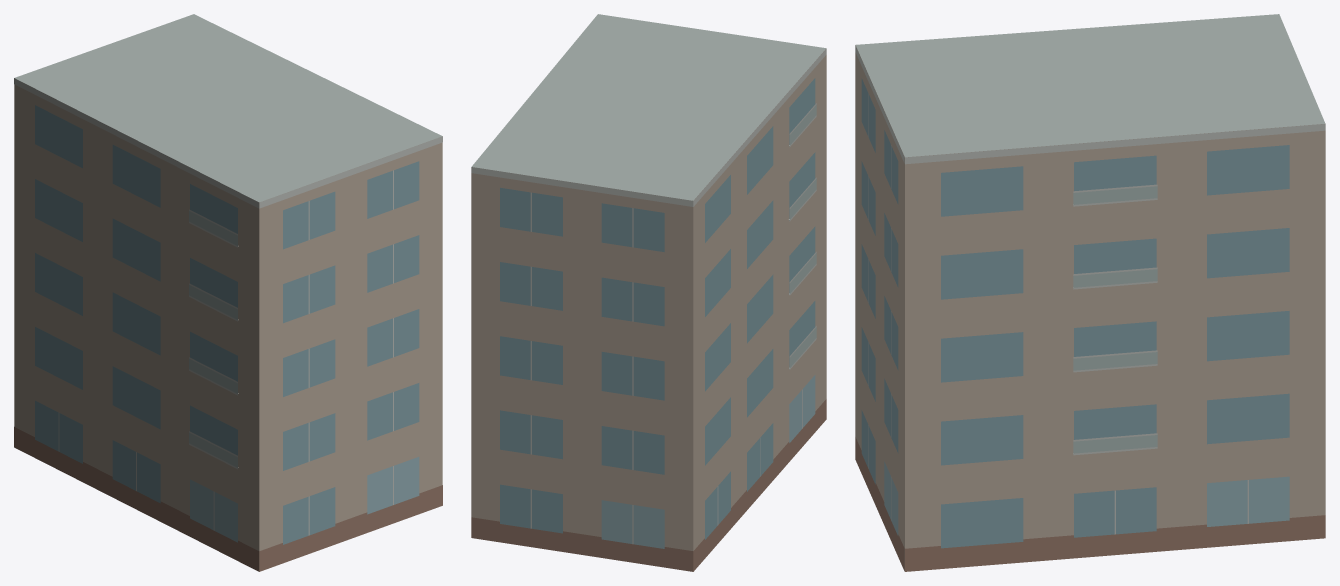
The model's file is survey-upis-32947152.glb.
3 views of the same model, side by side, from view 1: azimuth 30°, elevation 25°; view 2: azimuth 150°, elevation 25°; view 3: azimuth 270°, elevation 25° (orthographic). The views are drawn at different scales.
Visible parts, largest first — view 1: survey-upis-32947152.tmp; view 2: survey-upis-32947152.tmp; view 3: survey-upis-32947152.tmp.
Boxes of the visible parts, left/top/right/bottom form: survey-upis-32947152.tmp: left=14, top=14, right=442, bottom=571; survey-upis-32947152.tmp: left=471, top=14, right=826, bottom=571; survey-upis-32947152.tmp: left=855, top=14, right=1325, bottom=571.
Size of the model in its own units: 10.84 by 14.6 by 15.02.
